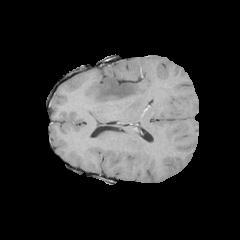glioma: (88, 70, 142, 125)
